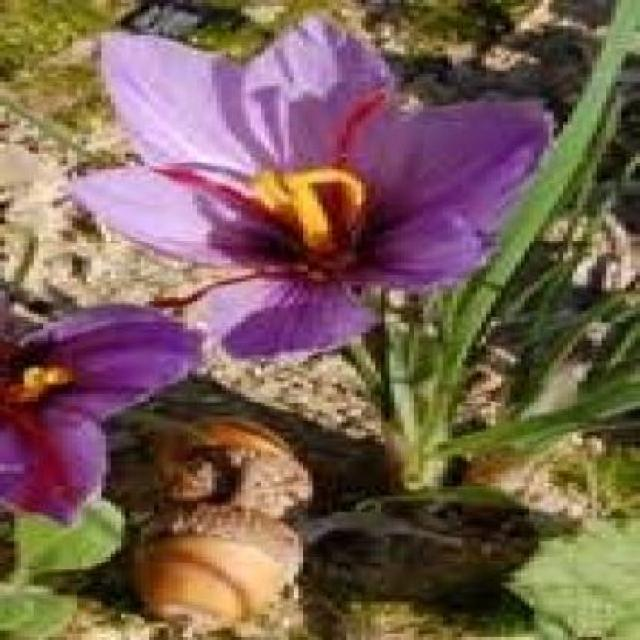saffron open: (74, 18, 551, 364), (0, 310, 200, 519)
